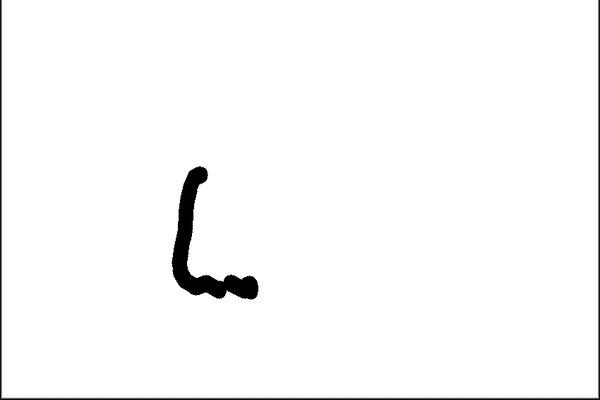L: (166, 162, 265, 305)
